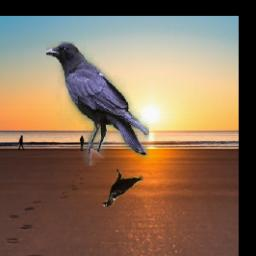Crow: (45, 43, 148, 167), (102, 169, 143, 207)
